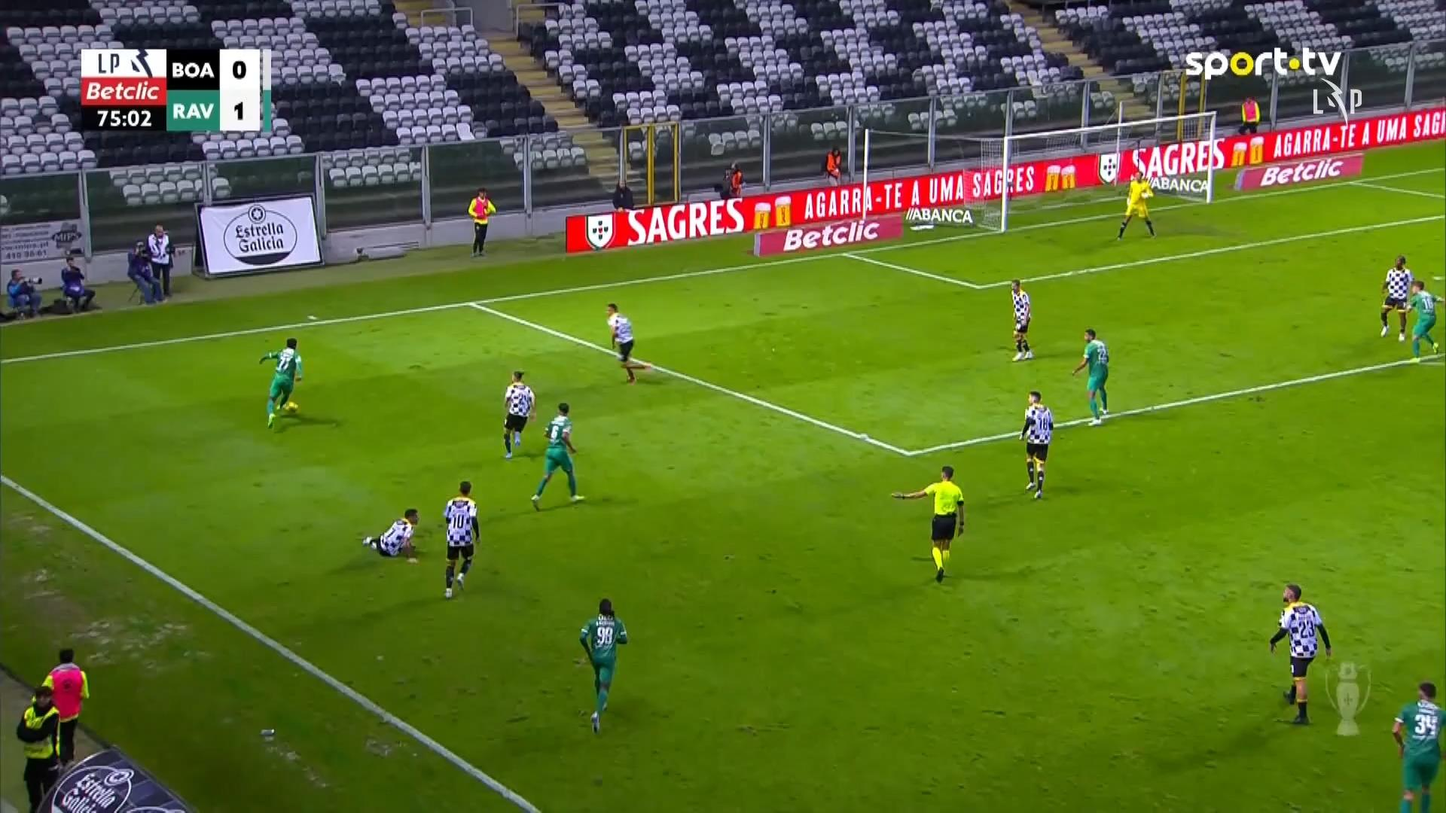ball: (284, 400, 297, 412)
goalkeeper: (1116, 170, 1156, 240)
player: (1268, 583, 1332, 724), (1391, 681, 1444, 811), (577, 598, 627, 733), (530, 401, 585, 510), (441, 480, 480, 599), (258, 336, 303, 429), (1018, 389, 1054, 499), (1071, 327, 1109, 426), (605, 302, 649, 383), (1399, 279, 1441, 362), (362, 507, 419, 563), (502, 370, 535, 459), (1379, 254, 1412, 341), (1009, 279, 1033, 361)
referee: (890, 464, 966, 583)
